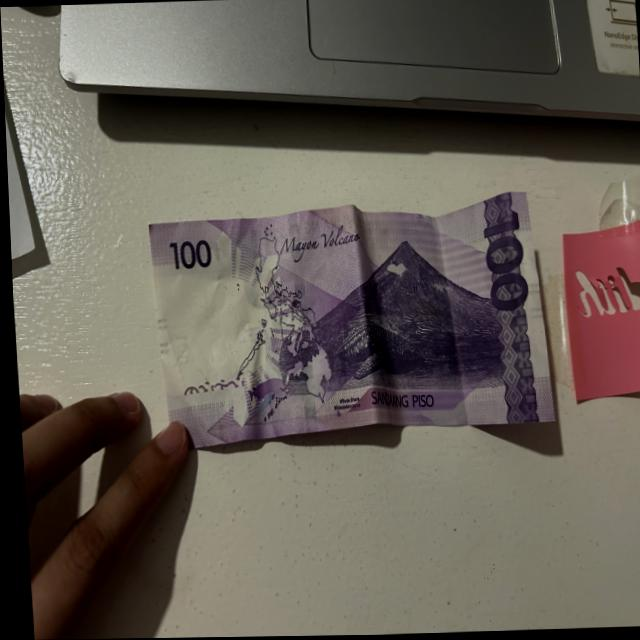100_whale: (321, 317, 426, 380)
100_whale_watermark: (241, 374, 282, 405)
value_watermark: (167, 329, 188, 371)
